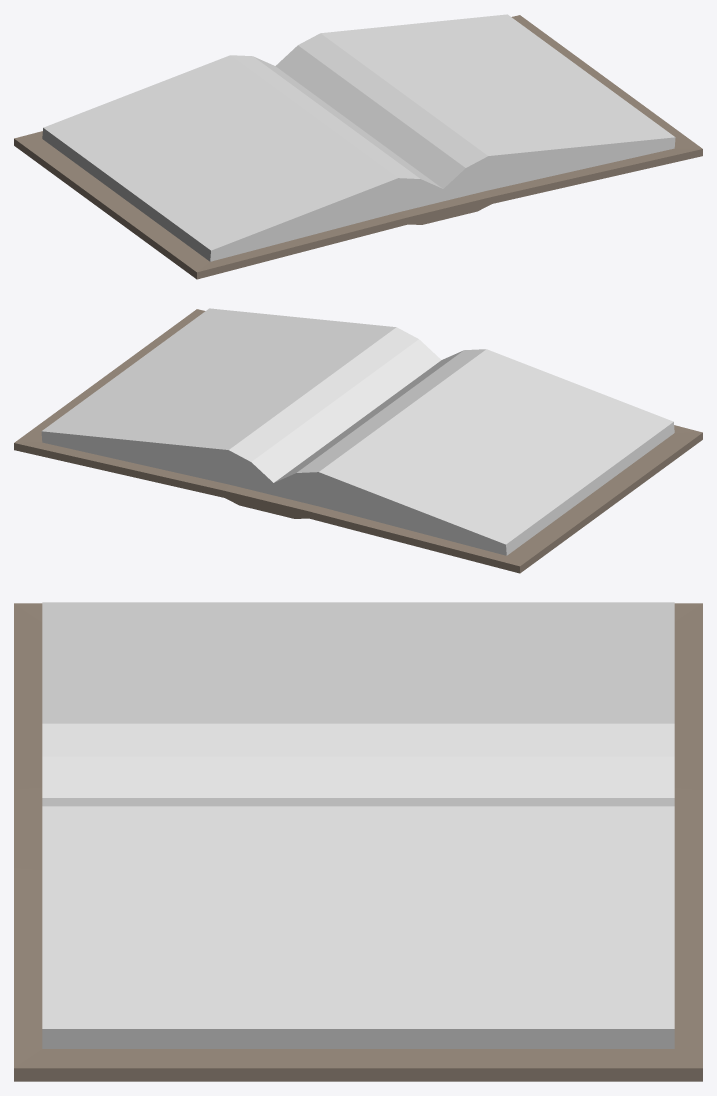
File: Opened Book.fbx
3 views of the same model, one above another, from view 1: azimuth 30°, elevation 25°; view 2: azimuth 150°, elevation 25°; view 3: azimuth 270°, elevation 25° (orthographic). The views are drawn at different scales.
Parts seen in each view (by area): view 1: Opened Book; view 2: Opened Book; view 3: Opened Book.
Boxes of the visible parts, bbox=[...] form: Opened Book: bbox=[14, 14, 702, 279]; Opened Book: bbox=[14, 308, 702, 573]; Opened Book: bbox=[14, 602, 702, 1081].
Size of the model in its own units: 45.08 by 3.87 by 28.23.
